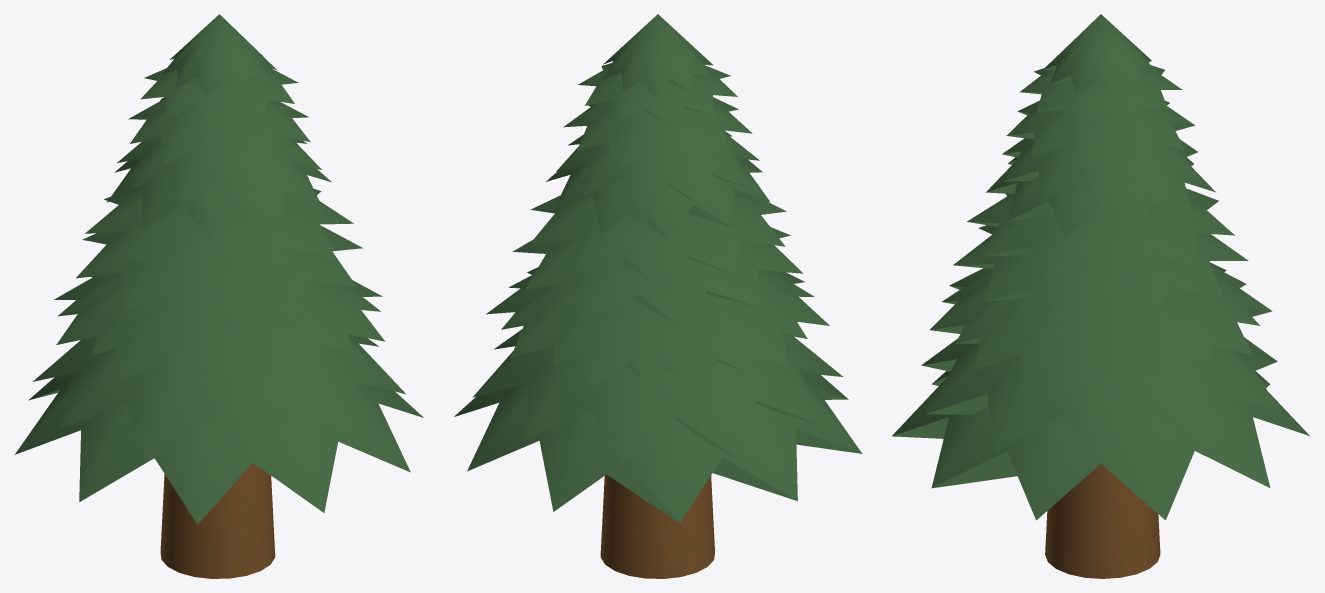
The model's file is tree2.fbx.
3 views of the same model, side by side, from view 1: azimuth 30°, elevation 25°; view 2: azimuth 150°, elevation 25°; view 3: azimuth 270°, elevation 25° (orthographic).
Visible parts, largest first — view 1: polySurface184, polySurface179; view 2: polySurface184, polySurface179; view 3: polySurface184, polySurface179.
Part boxes in pixels (<box>): polySurface184: <box>14,14,423,524</box>; polySurface179: <box>160,462,275,578</box>; polySurface184: <box>454,14,862,523</box>; polySurface179: <box>600,474,714,578</box>; polySurface184: <box>892,14,1309,520</box>; polySurface179: <box>1045,464,1160,578</box>.
Bounding box in the file's own units: 0.7679 × 1.15 × 0.8074.
